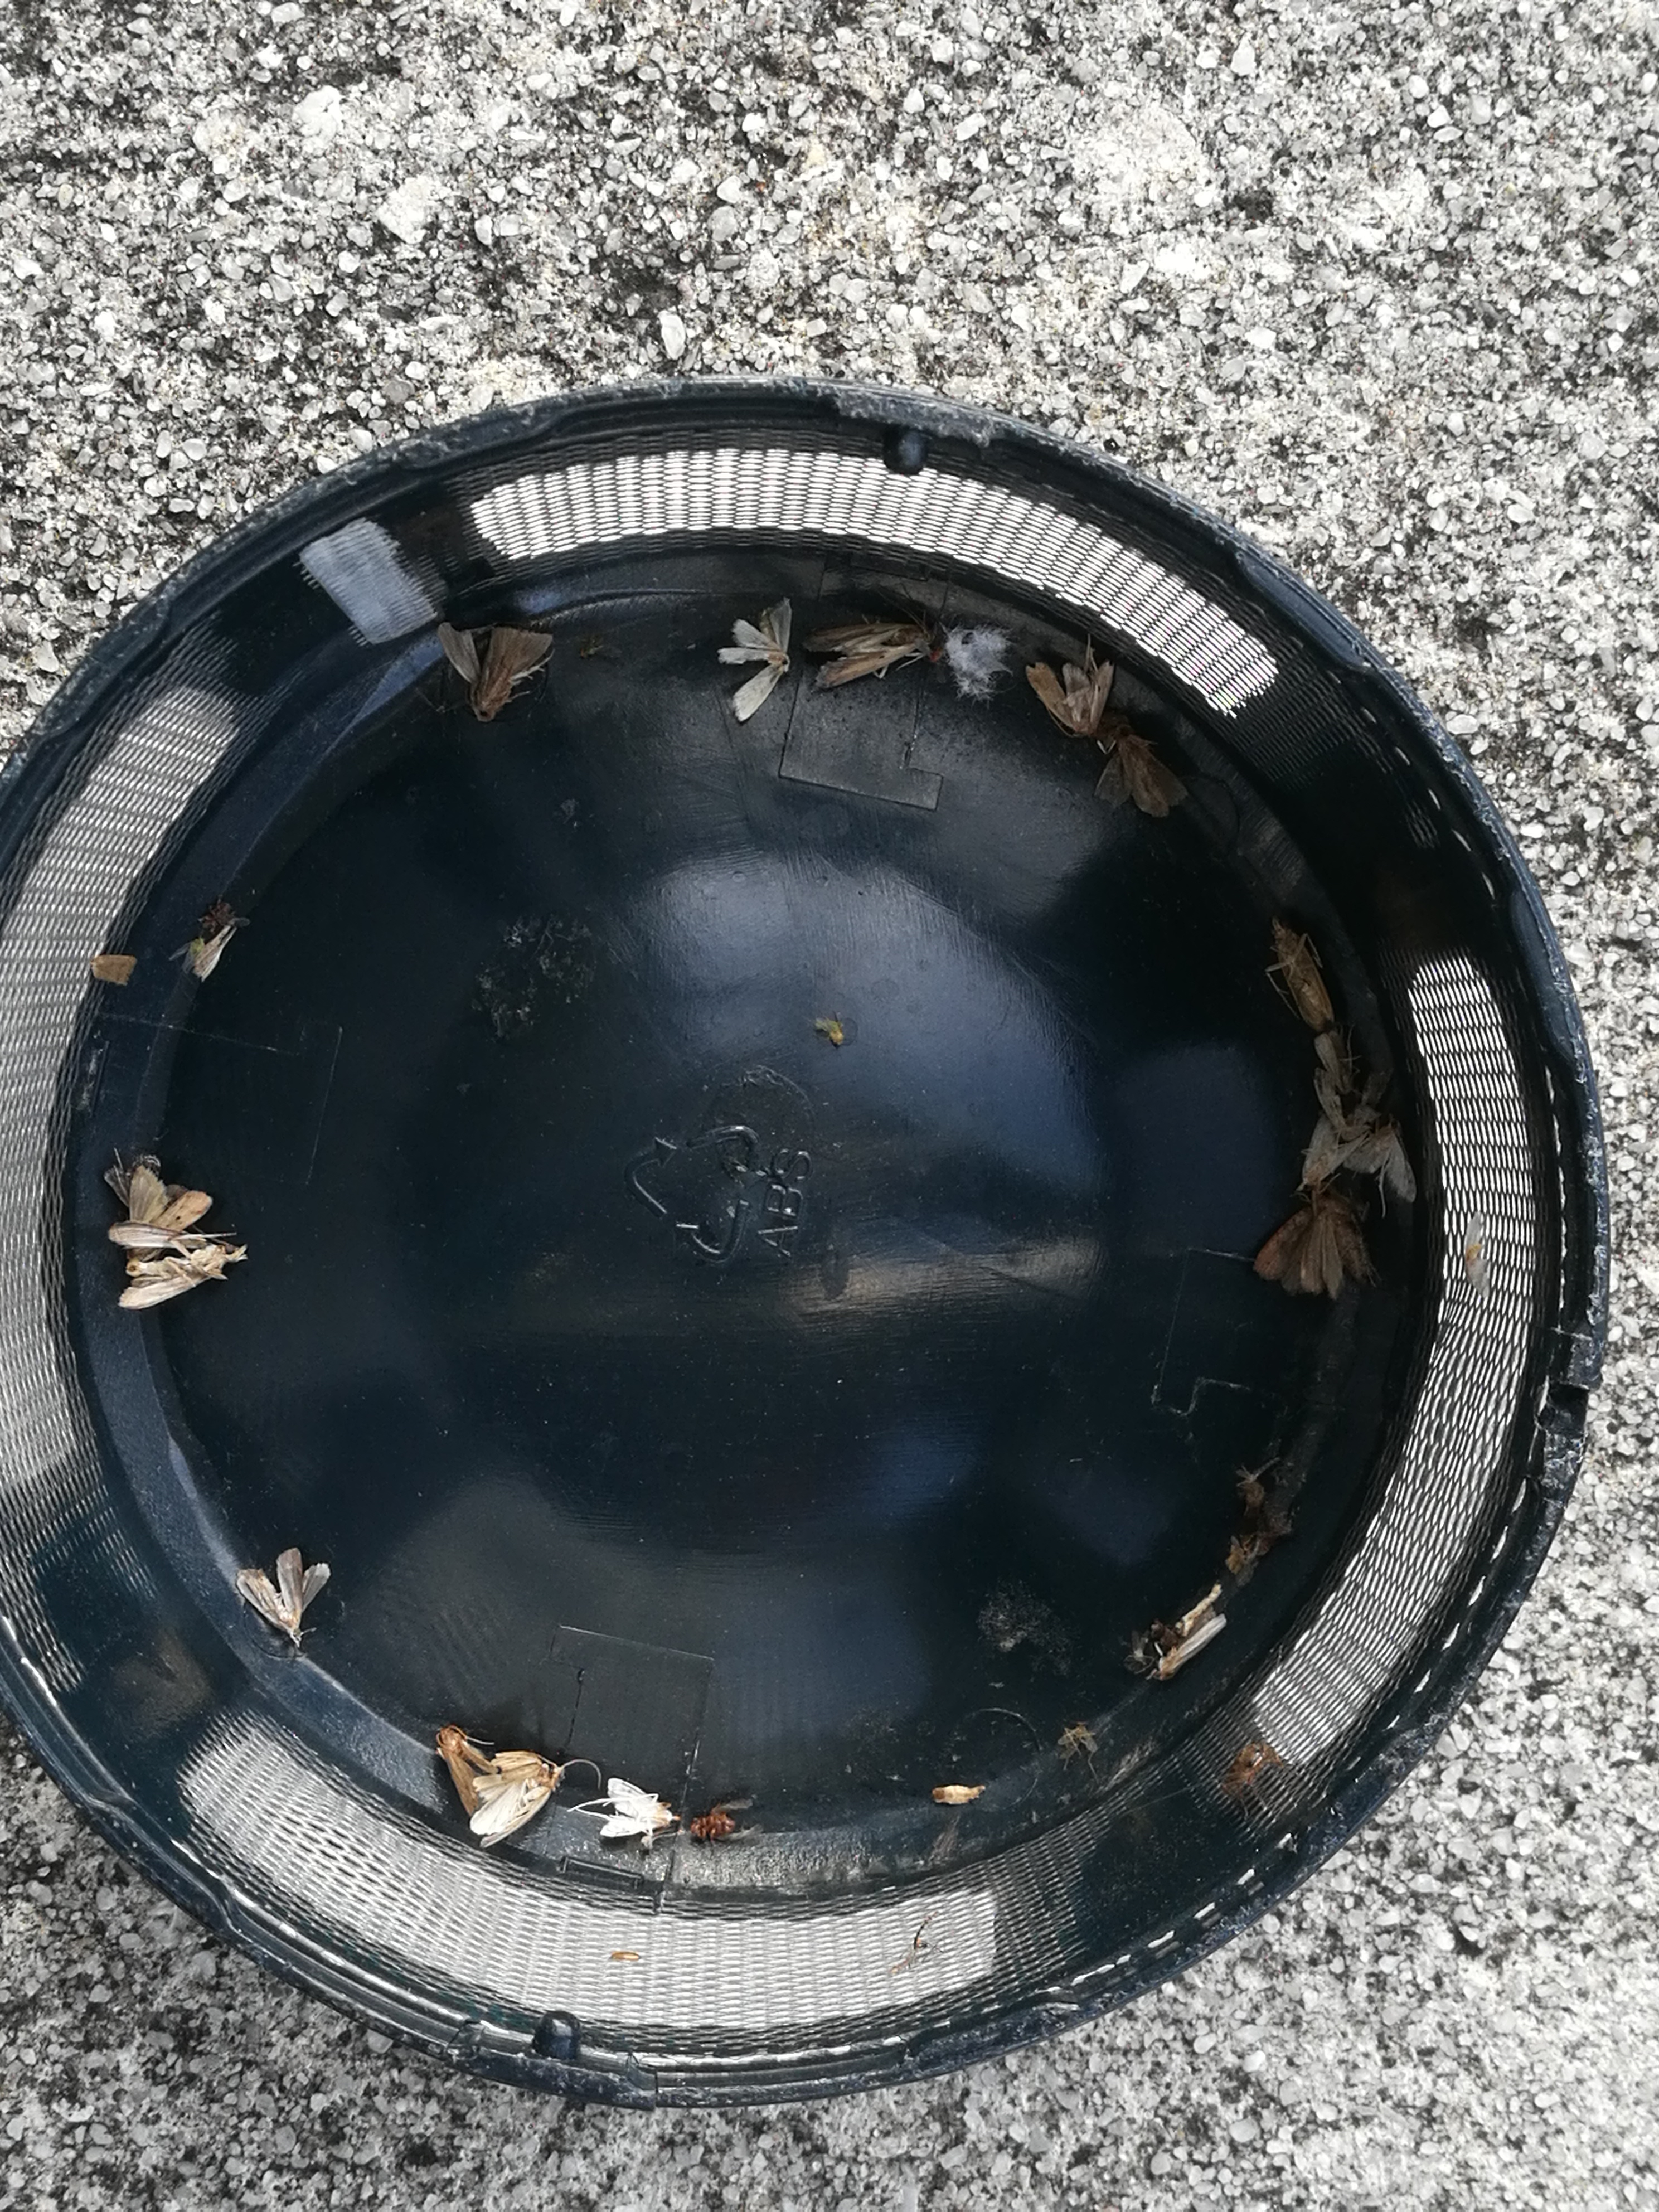mosquito: (1272, 920, 1333, 1026), (1159, 1615, 1227, 1683)
moth: (1255, 1186, 1373, 1298), (108, 1223, 242, 1310), (436, 620, 552, 716), (720, 596, 793, 719), (472, 1752, 561, 1844), (125, 1169, 214, 1259), (235, 1548, 329, 1632), (805, 624, 925, 688), (1098, 726, 1187, 813), (1030, 662, 1114, 730), (1344, 1123, 1413, 1204), (1314, 1069, 1389, 1139), (601, 1778, 680, 1839), (1302, 1116, 1361, 1183), (441, 1728, 483, 1811), (1314, 1031, 1356, 1094)
